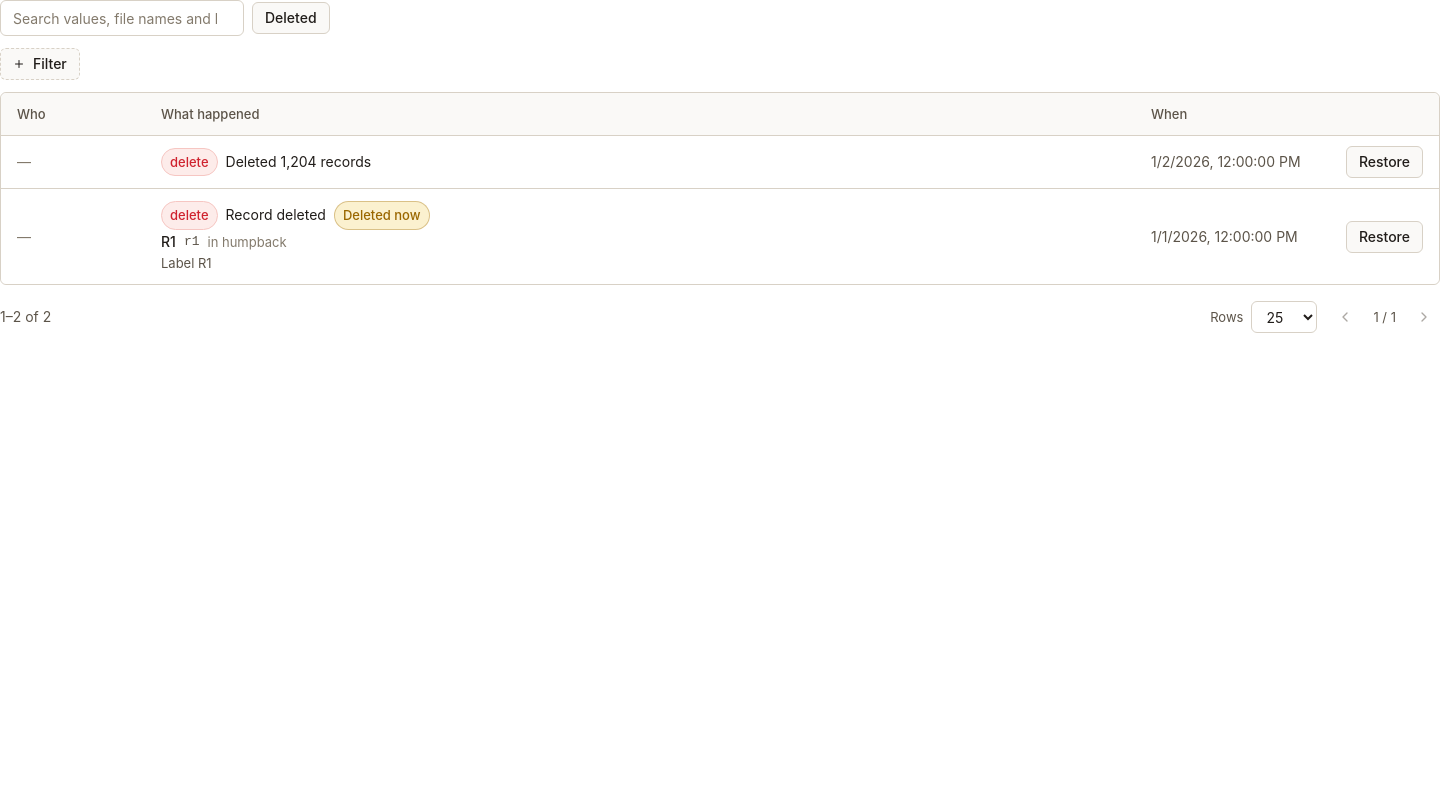
Test case: ActivityFeed › writes the whole id when the entry is opened
Click the text "Record deleted". click: (295, 216)
box: [161,201,430,230]
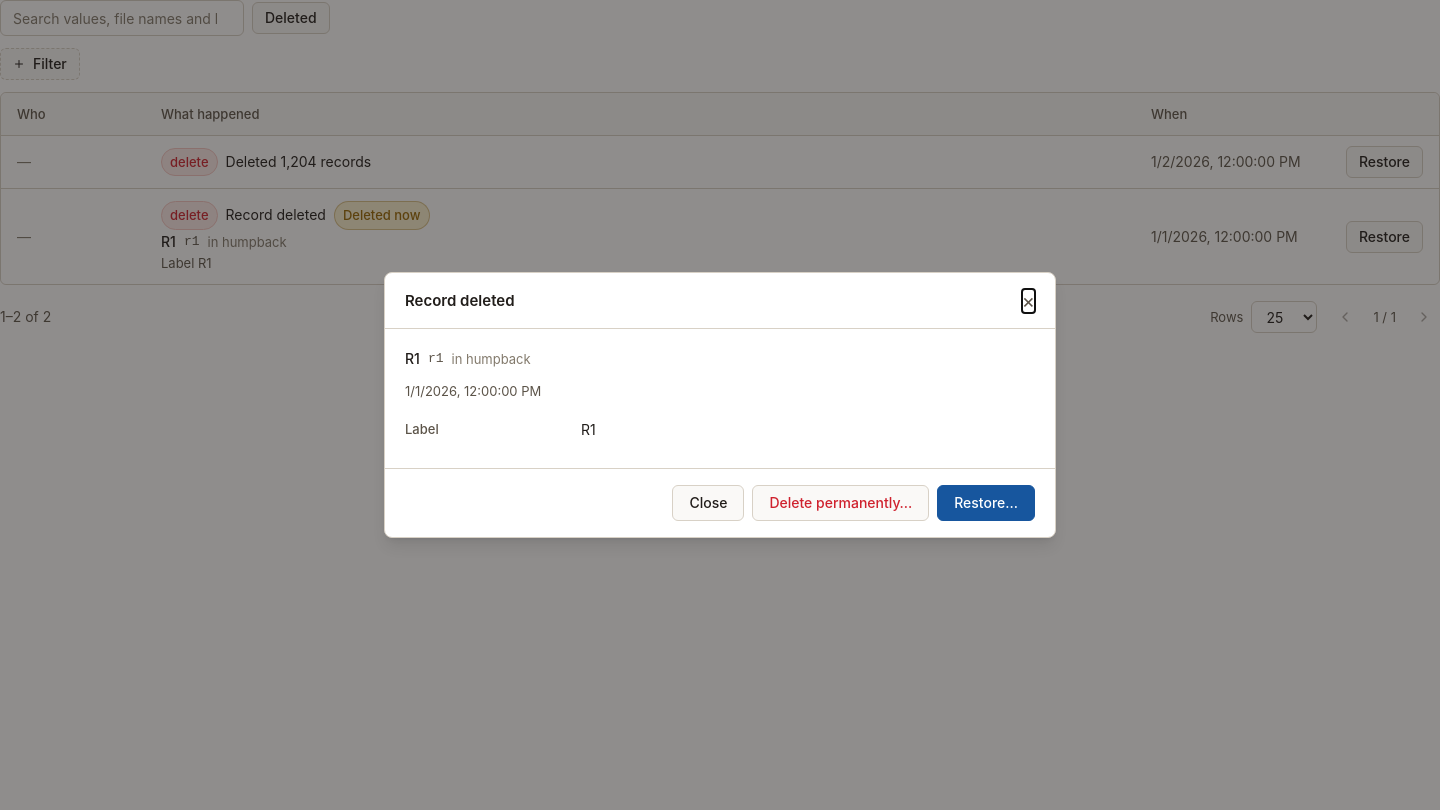
Result: the dialog shows "R1" at [405,350,420,367]
